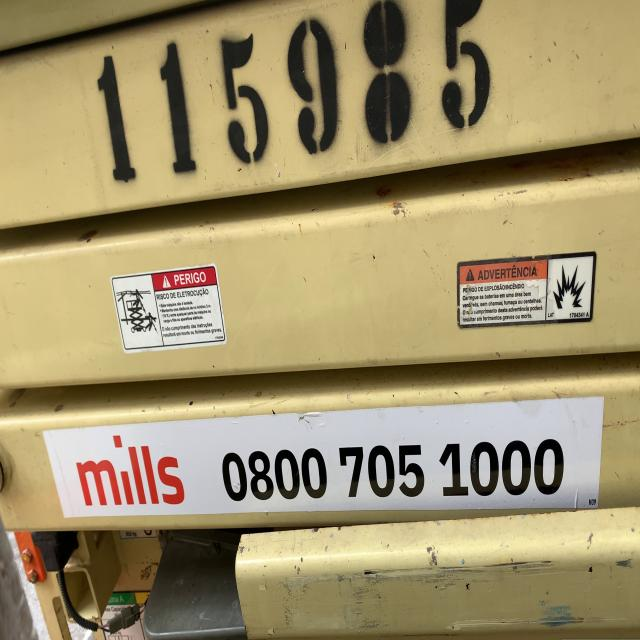Adesivo Longo: (42, 388, 605, 524)
